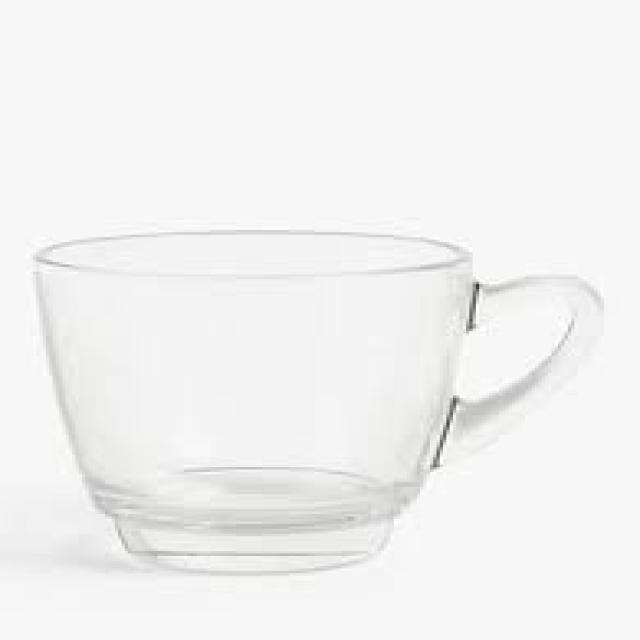Glass: (33, 227, 609, 577)
